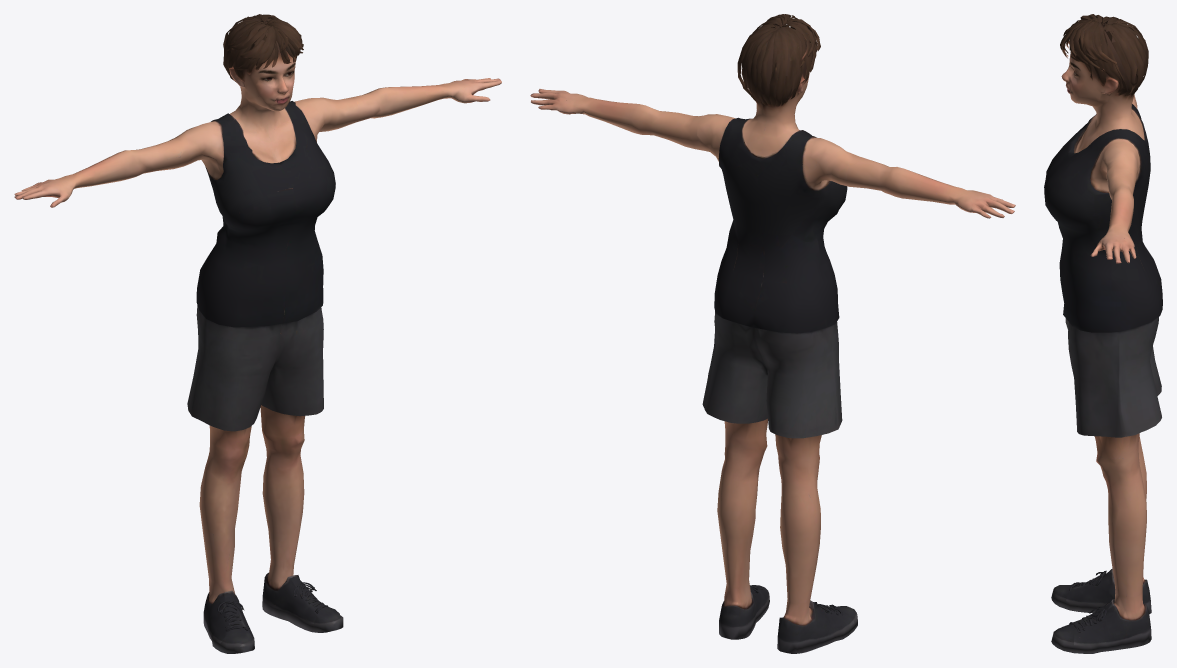
The model's file is womento.obj.
3 views of the same model, side by side, from view 1: azimuth 30°, elevation 25°; view 2: azimuth 150°, elevation 25°; view 3: azimuth 270°, elevation 25° (orthographic).
Parts seen in each view (by area): view 1: mesh_0; view 2: mesh_0; view 3: mesh_0.
Boxes of the visible parts, x1,y1,x2,y2 form: mesh_0: [14, 14, 501, 653]; mesh_0: [530, 14, 1015, 653]; mesh_0: [1044, 14, 1162, 653].
Size of the model in its own units: 789 by 950 by 168.
Materials: 1 (1 with a texture image).
